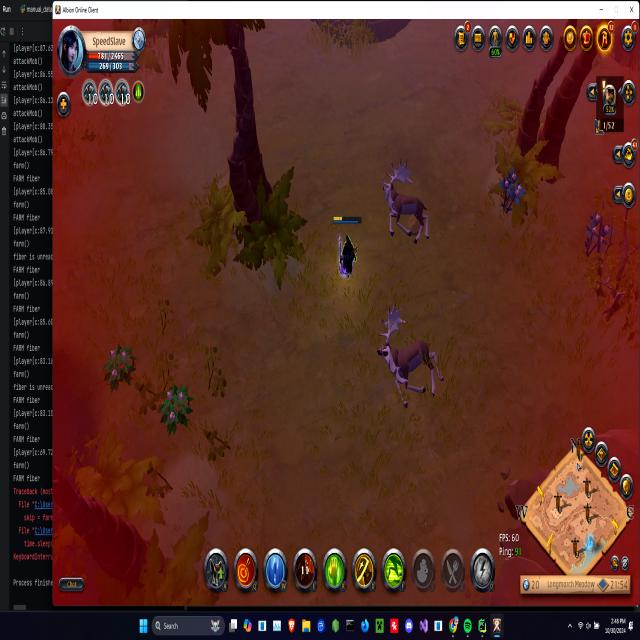hide: (158, 377, 192, 437), (100, 340, 136, 395), (582, 208, 616, 263), (496, 164, 525, 219)
mob: (373, 307, 446, 411), (379, 157, 432, 247)
red: (332, 212, 361, 281)
